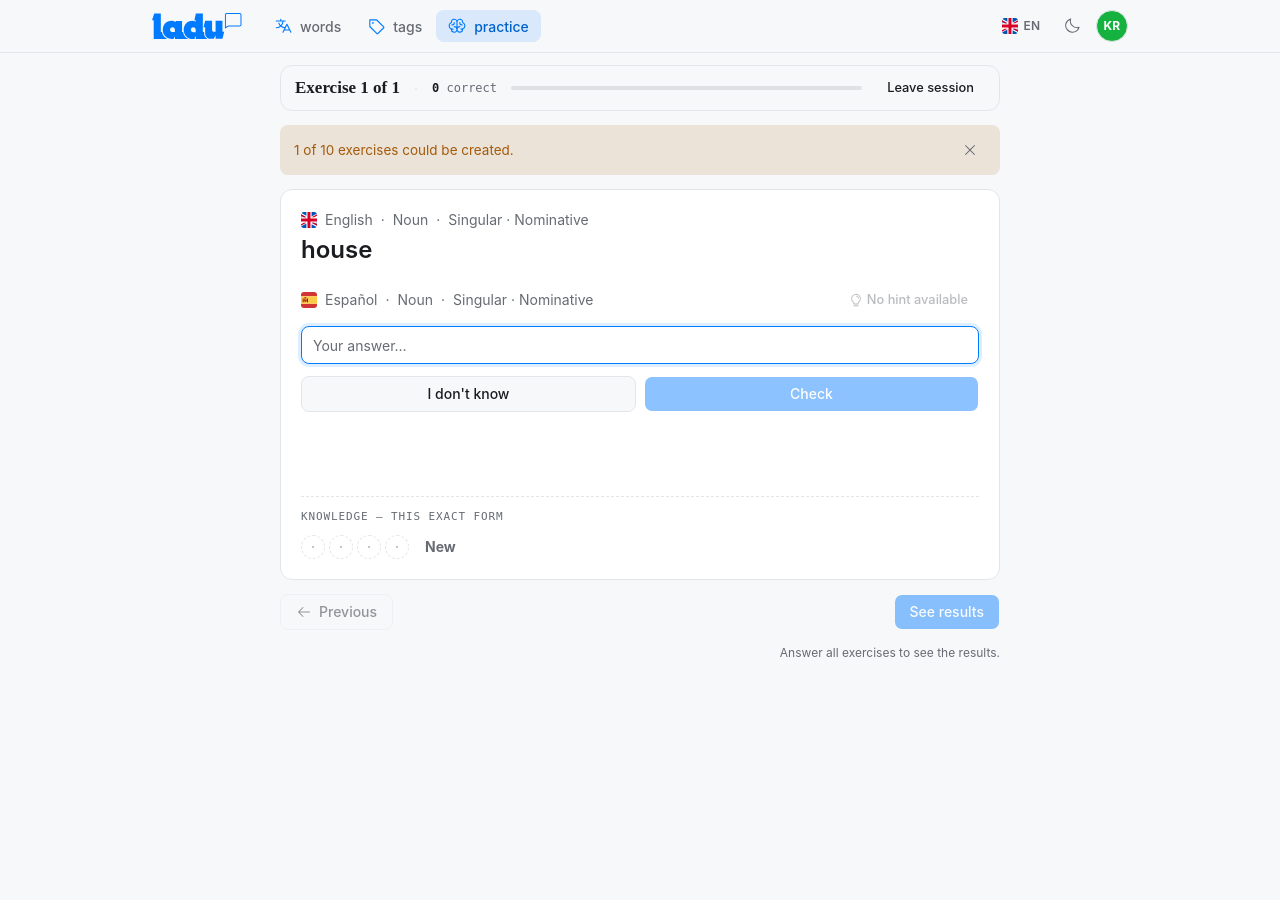
SessionView — typed answers › marks the answer wrong and shows the right one when the user presses "I don't know"
The width and height of the screenshot is (1280, 900).
What coordinates should you click on to do the following:
click the button "I don't know"
I would click on:
 (468, 394)
Its box is [301, 376, 636, 412].
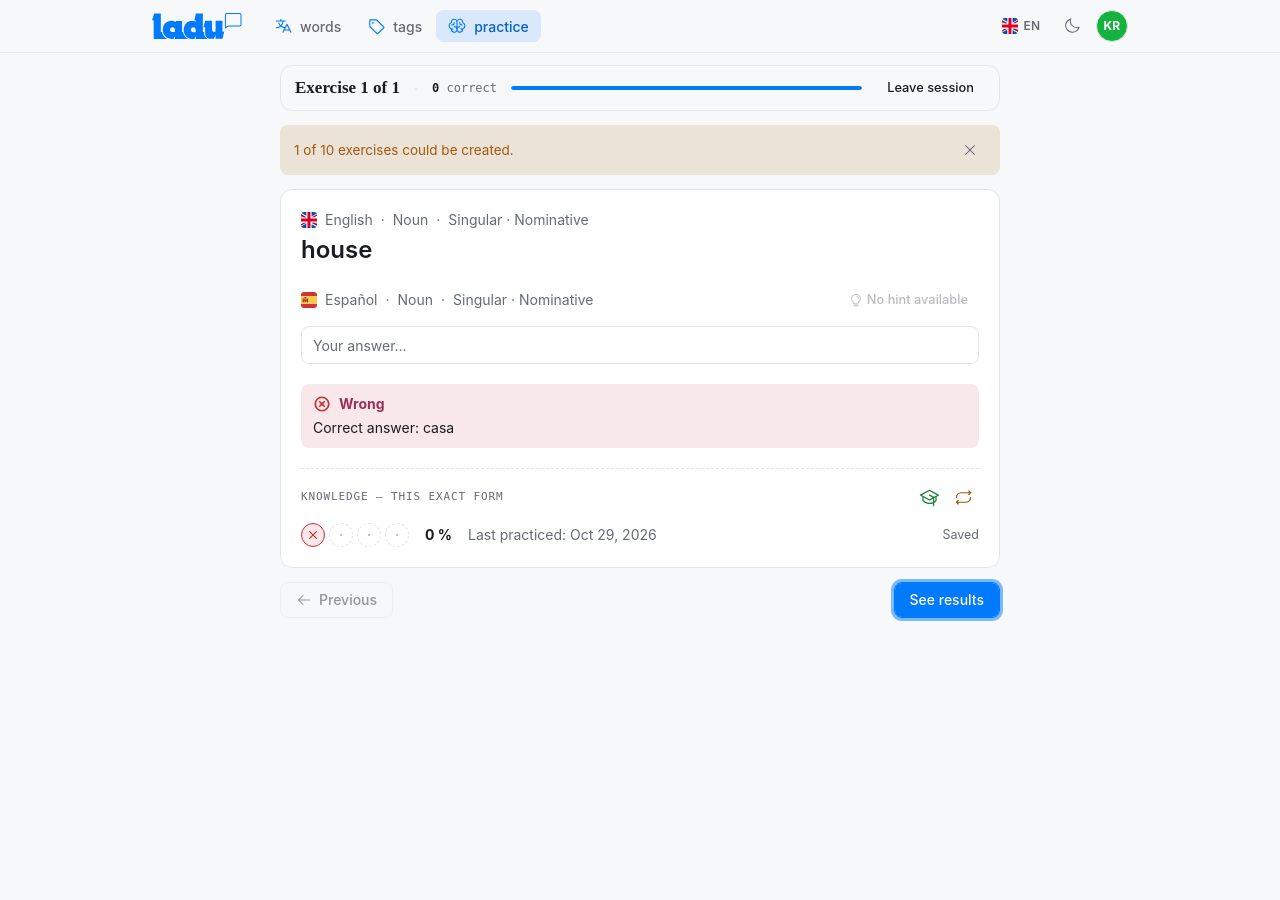
Now the text "Wrong" is shown, box [313, 395, 385, 413]
Now the text "Correct answer: casa" is shown, box [313, 419, 454, 436]
Now the text "Saved" is shown, box [942, 526, 979, 544]
